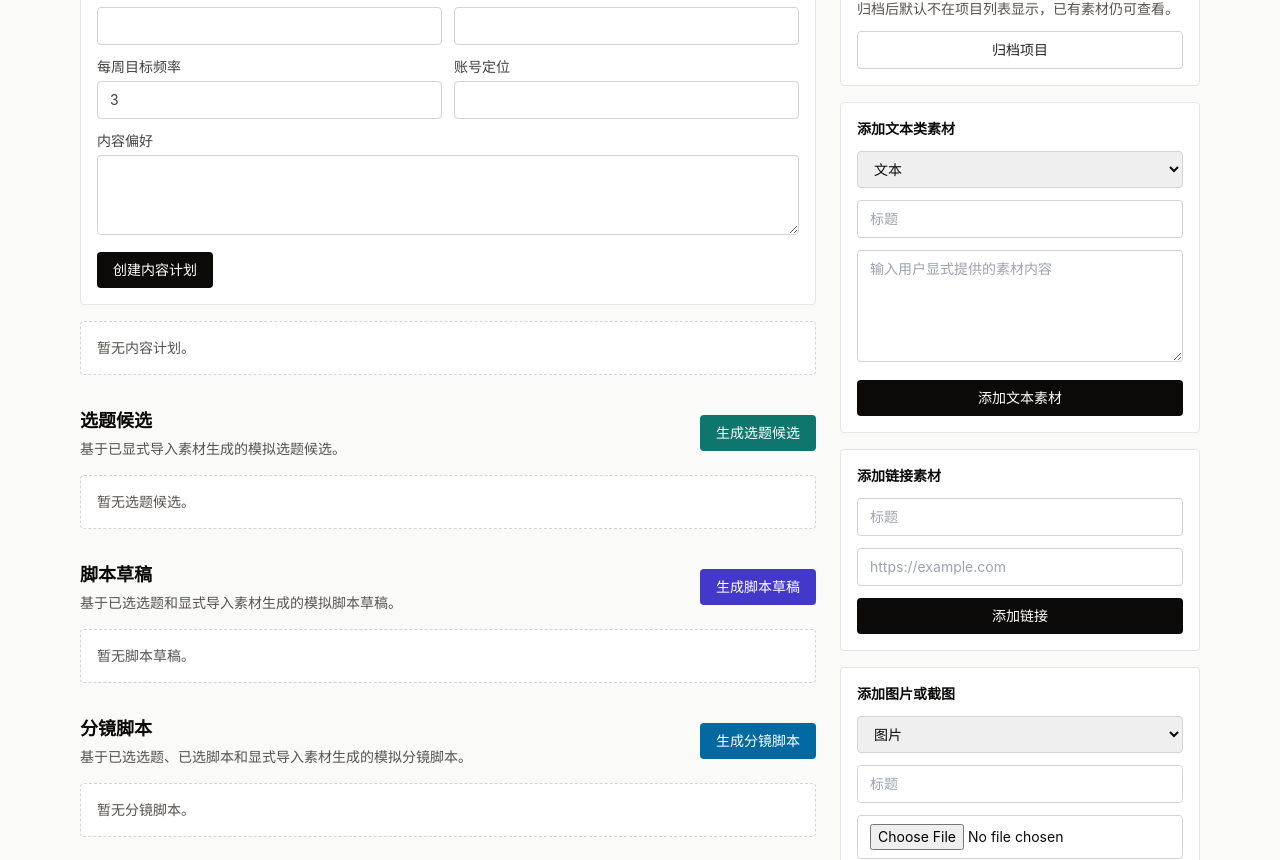
Test: ProjectDetailPage topic candidates › shows a no-materials message when generate returns 409
(page scrolled)
Step 1. Click the button "生成选题候选" → [758, 433], box [700,415,816,451]
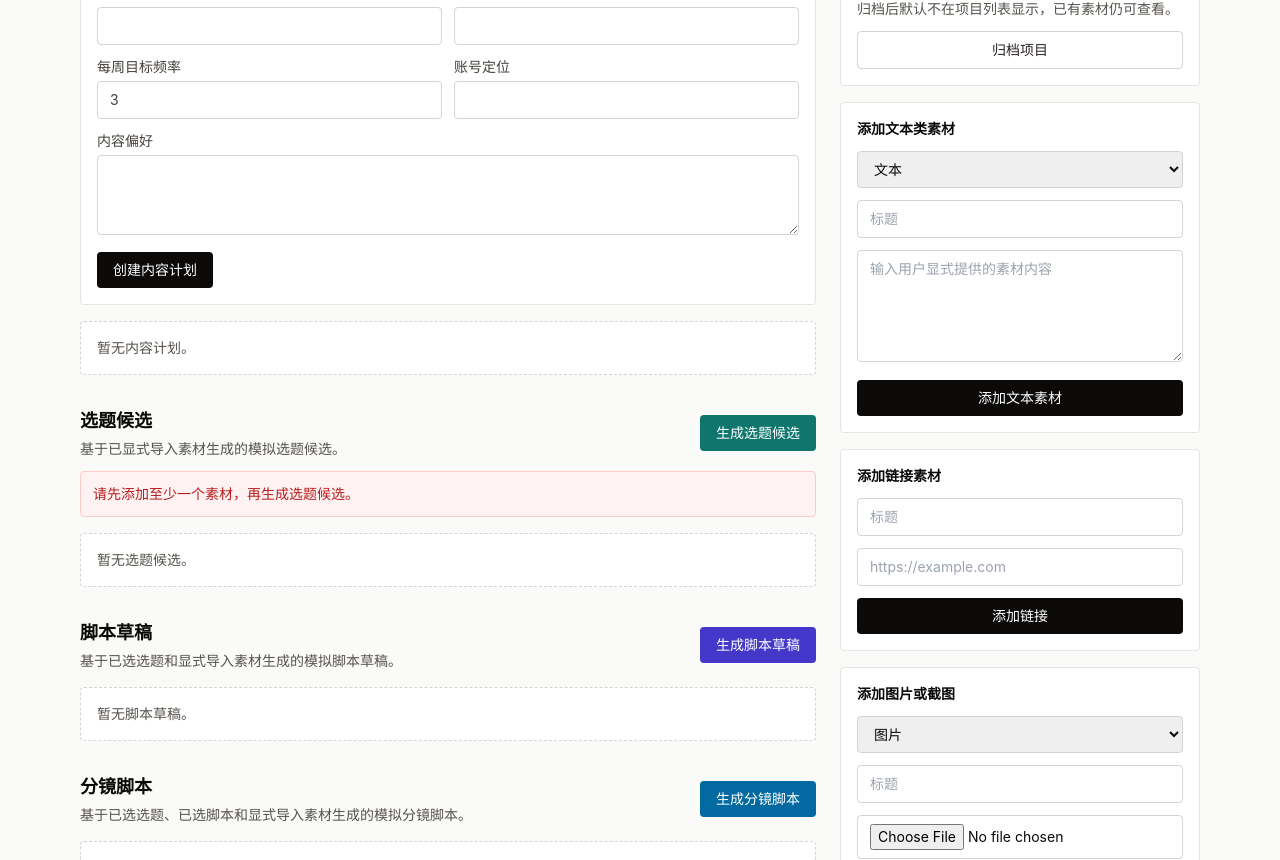
Expected: the text "请先添加至少一个素材，再生成选题候选。" is shown, [80,471,816,517]
